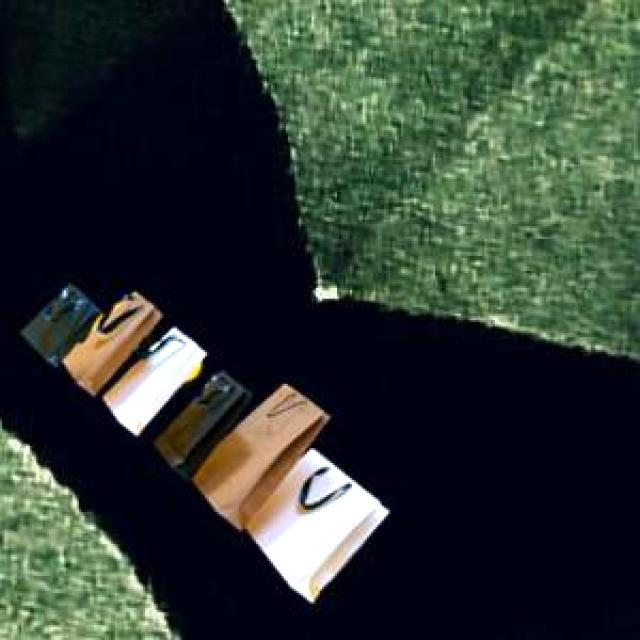Paper_Bag: (18, 282, 385, 598)
